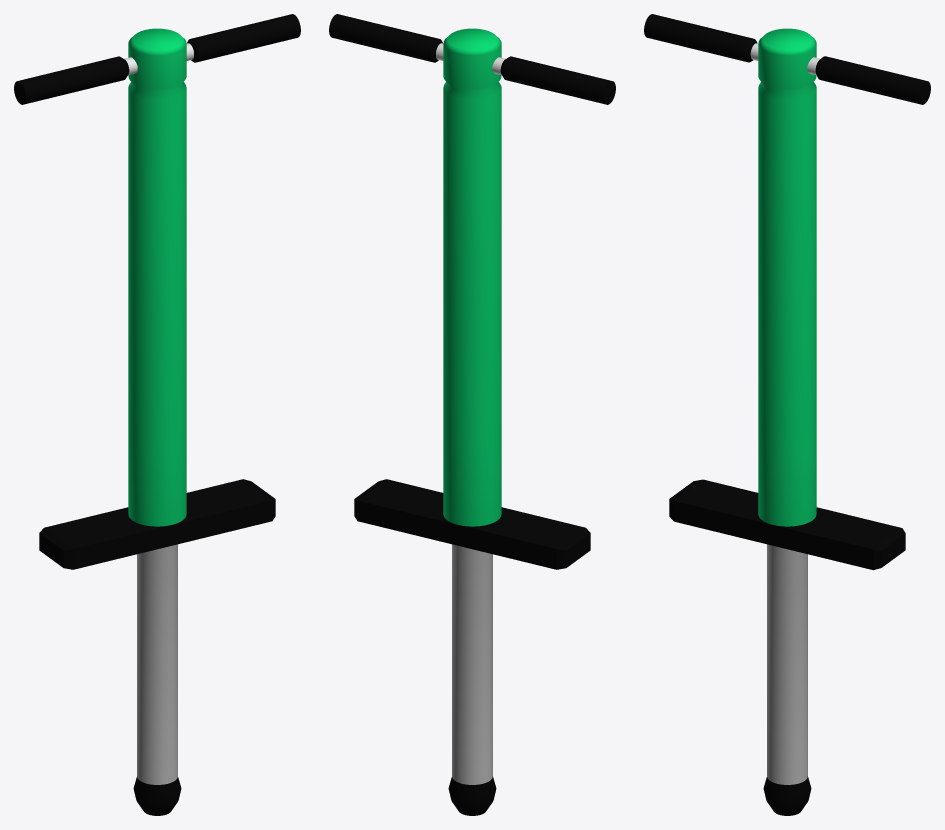
The model's file is pogo.fbx.
3 renders of one model, left to right at view 1: azimuth 30°, elevation 25°; view 2: azimuth 150°, elevation 25°; view 3: azimuth 330°, elevation 25°, orthographic.
Parts seen in each view (by area): view 1: Cylinder, Cube, Cylinder.001; view 2: Cylinder, Cube, Cylinder.001; view 3: Cylinder, Cube, Cylinder.001.
Boxes of the visible parts, x1,y1,x2,y2 form: Cylinder: (128, 28, 186, 815); Cube: (39, 479, 275, 569); Cylinder.001: (14, 14, 300, 104); Cylinder: (443, 28, 501, 815); Cube: (354, 479, 590, 569); Cylinder.001: (329, 14, 615, 104); Cylinder: (758, 28, 816, 815); Cube: (669, 479, 905, 570); Cylinder.001: (644, 14, 930, 104).
Size of the model in its own units: 1089 by 2920 by 200.
